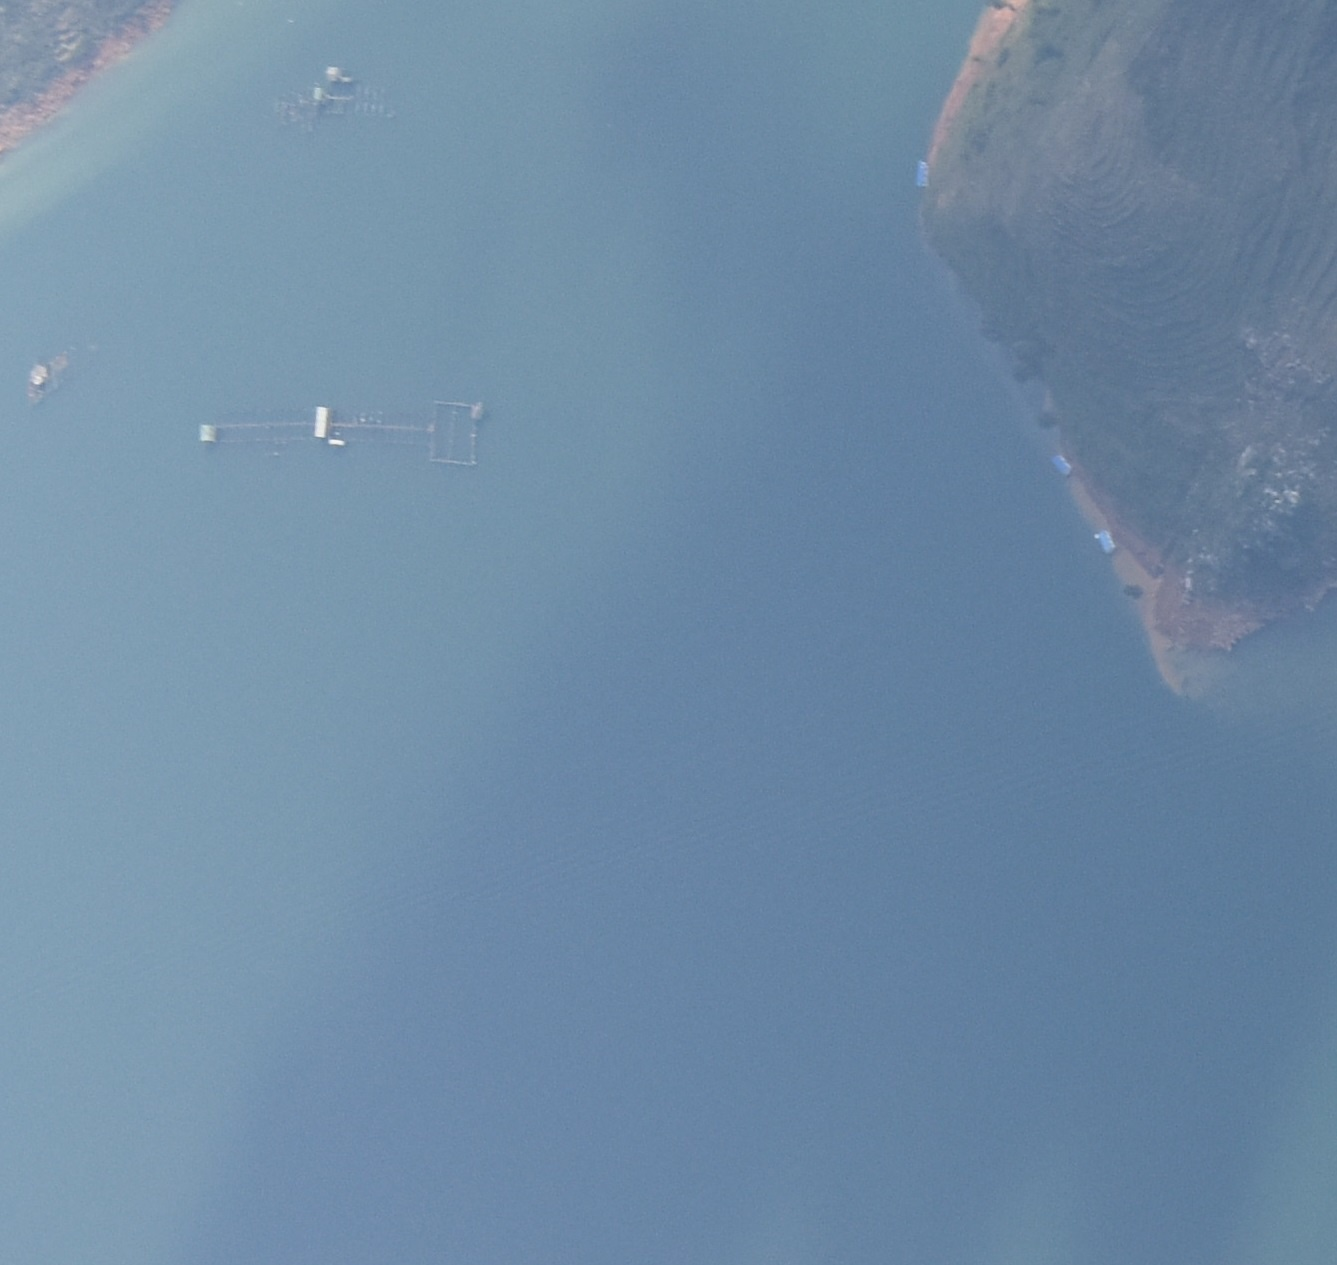cultivation-mesh-cage: (198, 402, 483, 470), (254, 76, 393, 127), (23, 351, 74, 405)
prefabricated-house: (315, 407, 335, 441), (1093, 525, 1116, 554), (1051, 453, 1070, 478), (916, 159, 931, 188), (198, 424, 215, 441), (322, 67, 340, 80), (310, 88, 321, 102)
